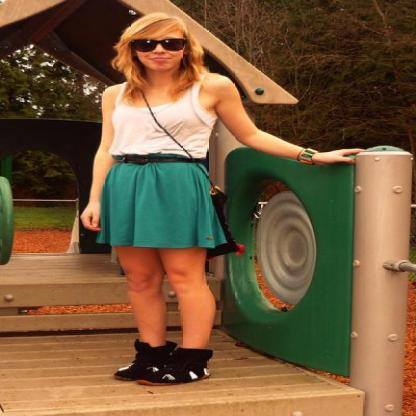shirt: (100, 82, 215, 158)
shoe: (115, 341, 211, 386)
skirt: (87, 162, 226, 248)
sunglass: (128, 38, 186, 58)
